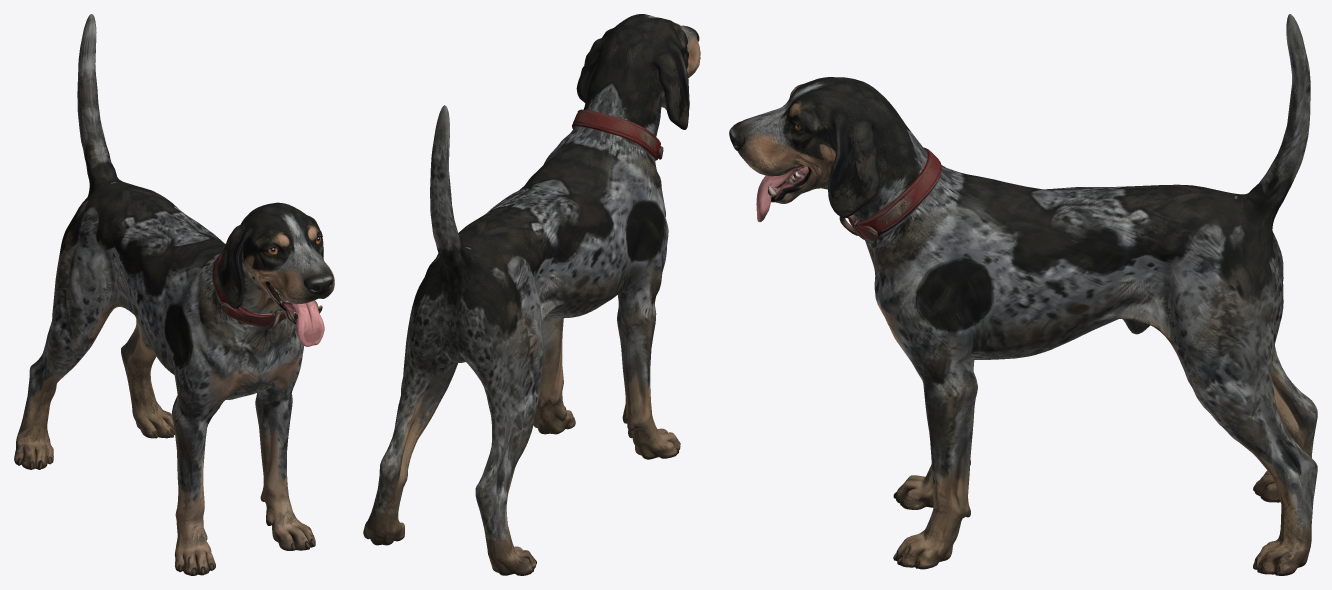
The model's file is hound.glb.
3 views of the same model, side by side, from view 1: azimuth 30°, elevation 25°; view 2: azimuth 150°, elevation 25°; view 3: azimuth 270°, elevation 25° (orthographic). The views are drawn at different scales.
Size of the model in its own units: 0.7151 by 1.84 by 1.9.
Materials: 1 (1 with a texture image).
